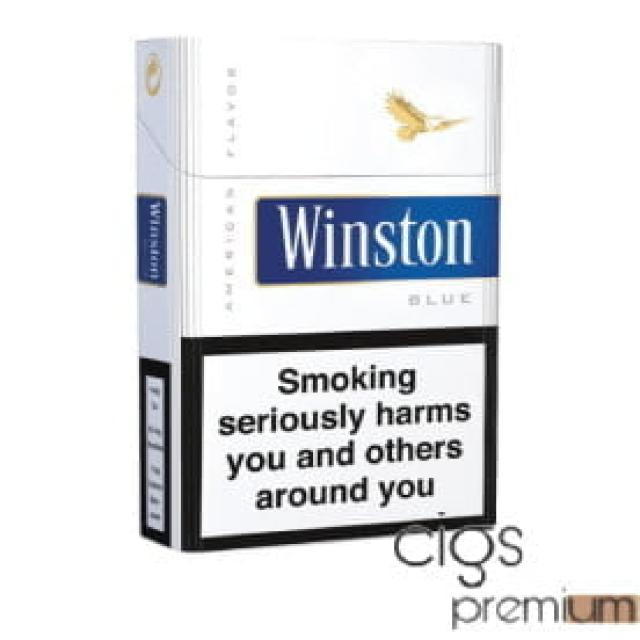winston: (125, 24, 512, 559)
